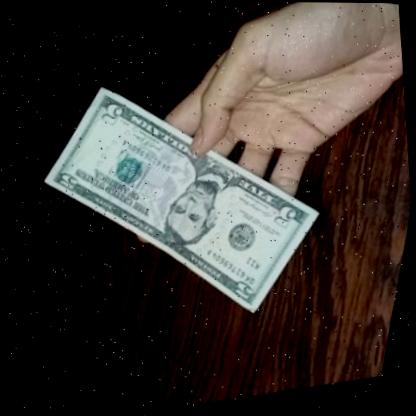five-front: (0, 41, 363, 365)
